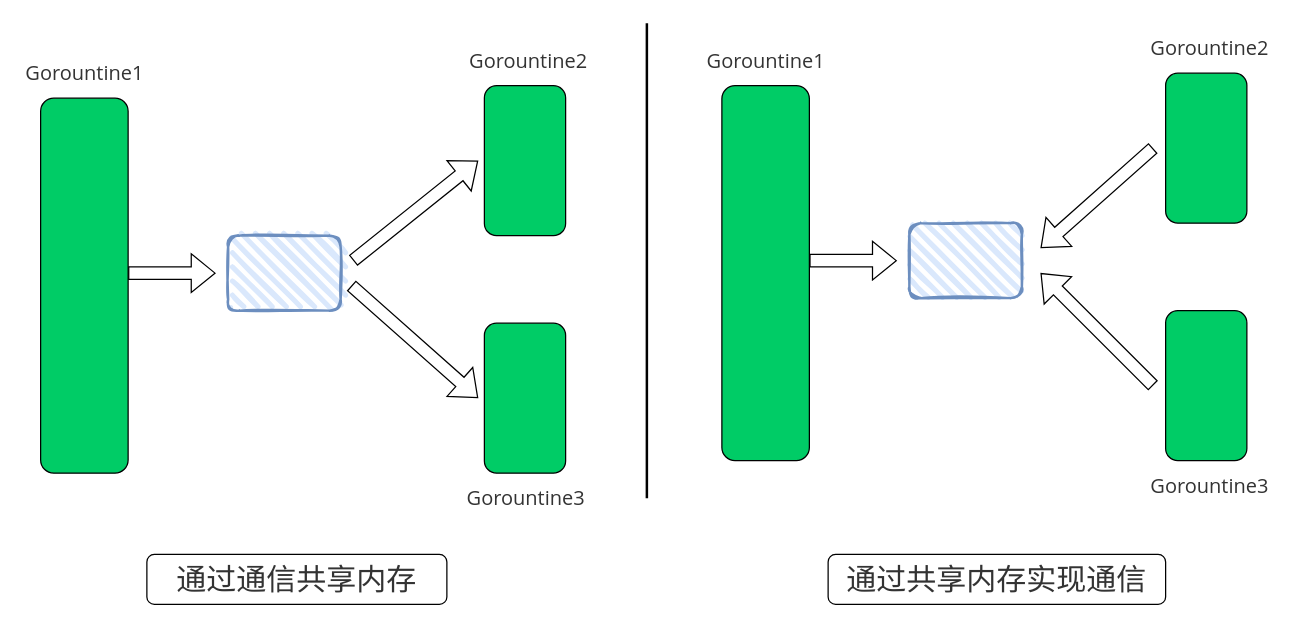
This 1293x626 diagram has some shape labels left out. The shapes that lost their labels are listed below. From the top down, each one's box as (x1, y1, x2, y2) in pixels, then its label:
(226, 234, 341, 311): 通道
(908, 221, 1022, 299): 临界区
